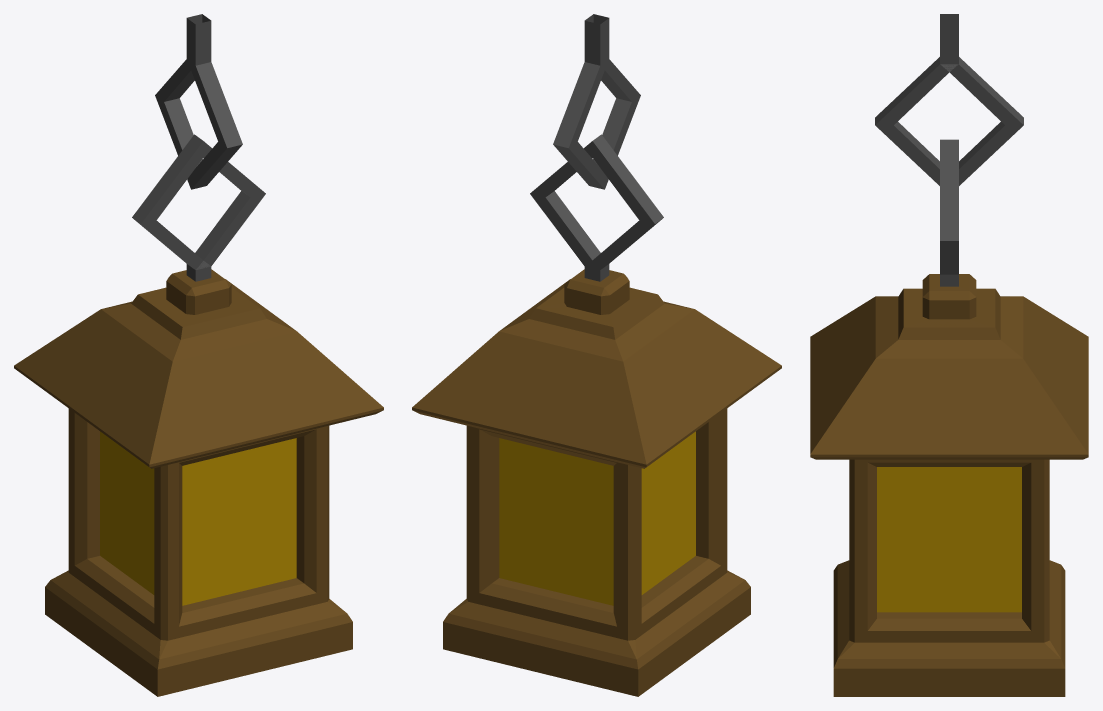
File: Lanntern.fbx
3 views of the same model, side by side, from view 1: azimuth 30°, elevation 25°; view 2: azimuth 150°, elevation 25°; view 3: azimuth 270°, elevation 25° (orthographic). The views are drawn at different scales.
Visible parts, largest first — view 1: Plane; view 2: Plane; view 3: Plane.
Boxes of the visible parts, x1,y1,x2,y2 form: Plane: [14, 14, 383, 696]; Plane: [412, 14, 781, 696]; Plane: [810, 14, 1088, 696].
Size of the model in its own units: 35.74 by 91.64 by 35.74.
